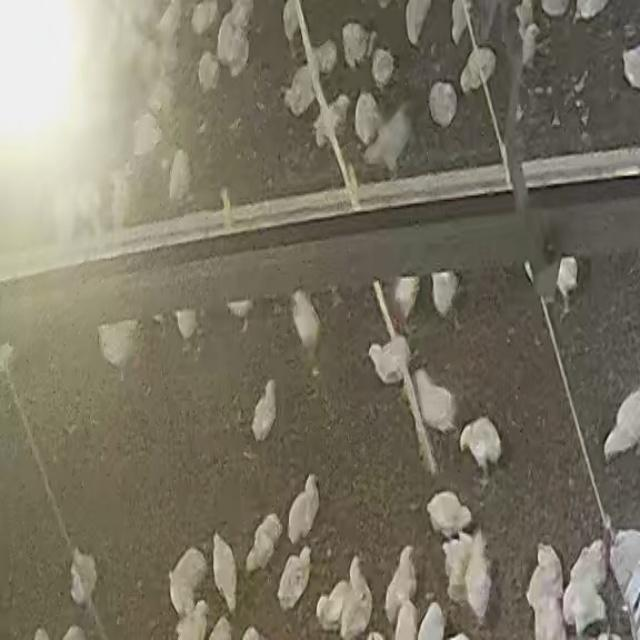chicken: (314, 559, 375, 640), (363, 101, 413, 175), (456, 414, 507, 474), (412, 367, 456, 434), (168, 545, 208, 618), (96, 319, 140, 380), (290, 289, 322, 366), (276, 544, 312, 612), (287, 474, 321, 546), (310, 90, 352, 148), (385, 547, 417, 622), (426, 490, 473, 538), (216, 10, 250, 76), (212, 533, 238, 614), (280, 62, 318, 117), (247, 513, 283, 571), (367, 336, 409, 385), (458, 46, 498, 96), (341, 14, 376, 67), (250, 377, 278, 443), (362, 45, 402, 88), (70, 548, 98, 604), (353, 91, 382, 144), (111, 170, 136, 229), (431, 268, 459, 320), (393, 273, 421, 325), (427, 80, 458, 126), (132, 112, 160, 156), (147, 74, 175, 118), (156, 2, 184, 43), (416, 601, 446, 638), (169, 151, 191, 201), (342, 160, 364, 208), (190, 1, 220, 36), (282, 0, 303, 48), (197, 52, 221, 94), (312, 40, 339, 76), (227, 0, 255, 33)
